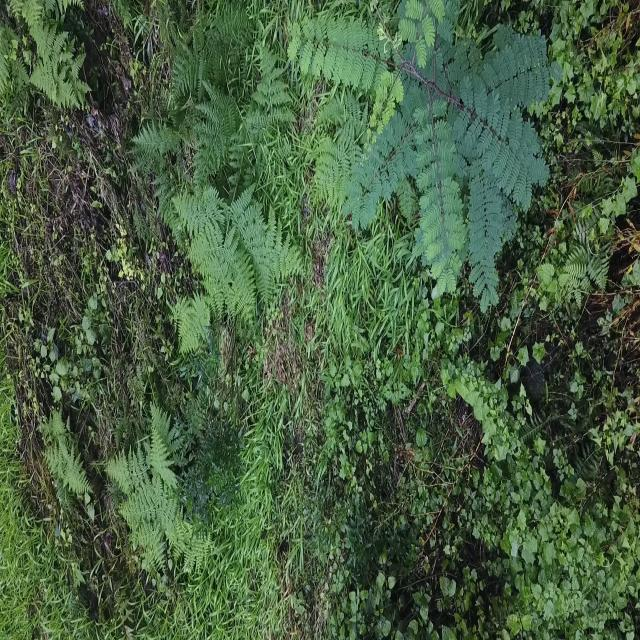Mysore-Thorn-Weed: (284, 0, 551, 322)
